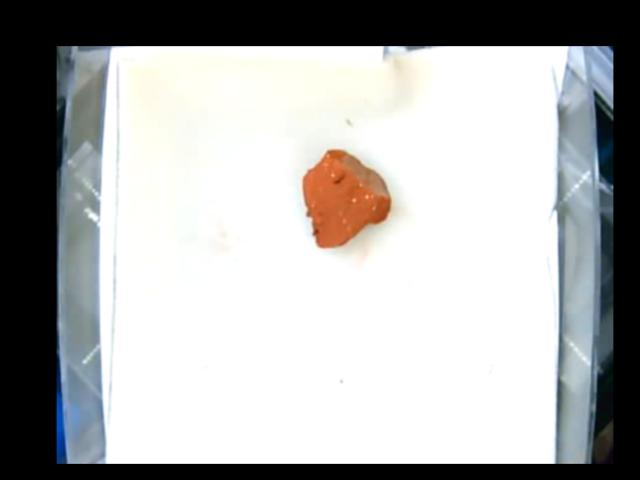Brisk: (302, 147, 391, 247)
